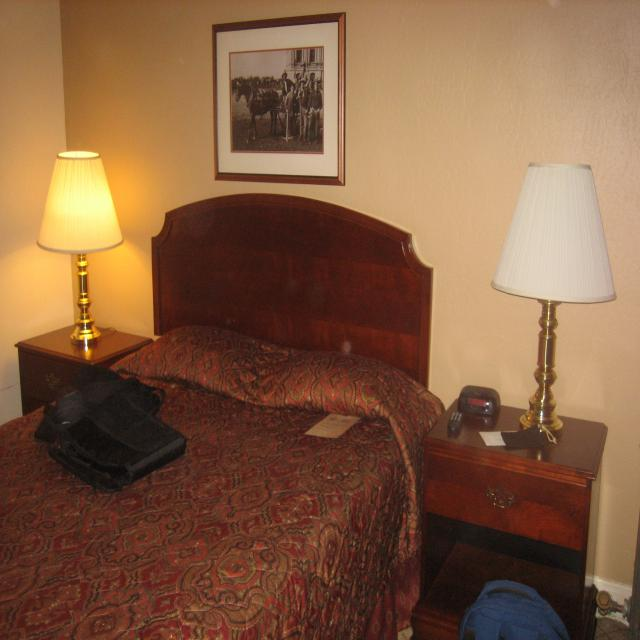Alarm clock: (458, 386, 501, 417)
Bed skirt: (3, 196, 450, 640)
Lamp: (493, 160, 616, 433), (37, 149, 124, 340)
painting crop: (212, 11, 346, 185)
remote: (447, 409, 464, 437)
